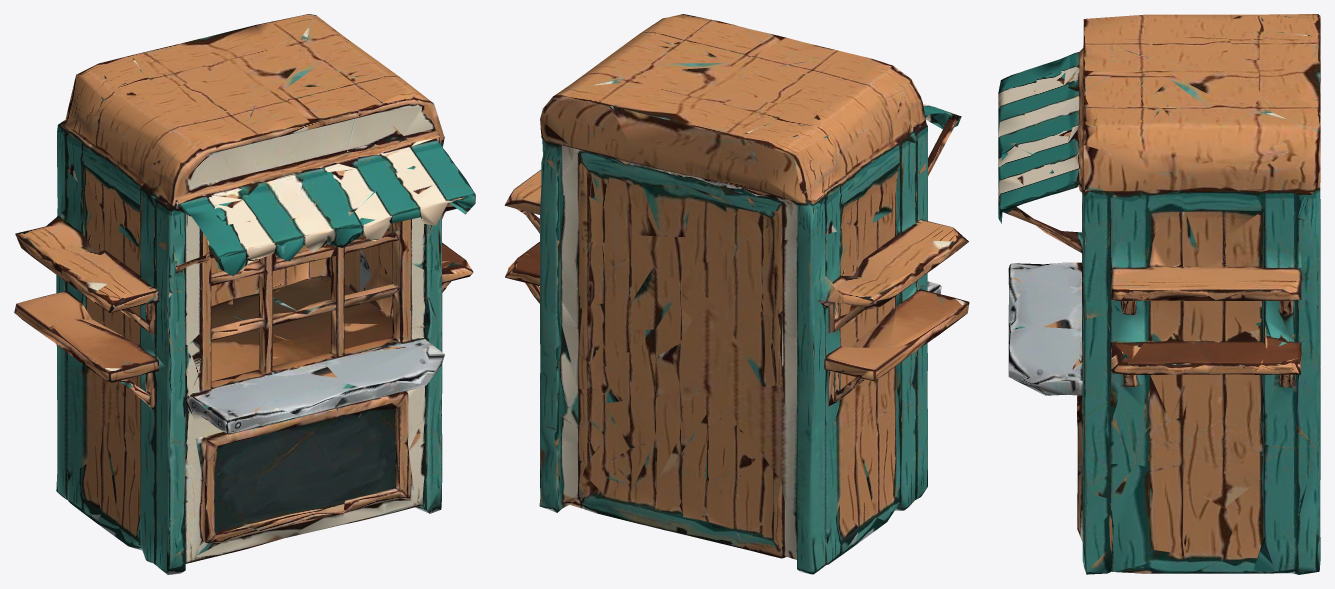
File: kiosk.glb
3 renders of one model, left to right at view 1: azimuth 30°, elevation 25°; view 2: azimuth 150°, elevation 25°; view 3: azimuth 270°, elevation 25°, orthographic. The views are drawn at different scales.
Bounding box in the file's own units: 1.74 × 1.89 × 1.26.
Materials: 1 (1 with a texture image).
